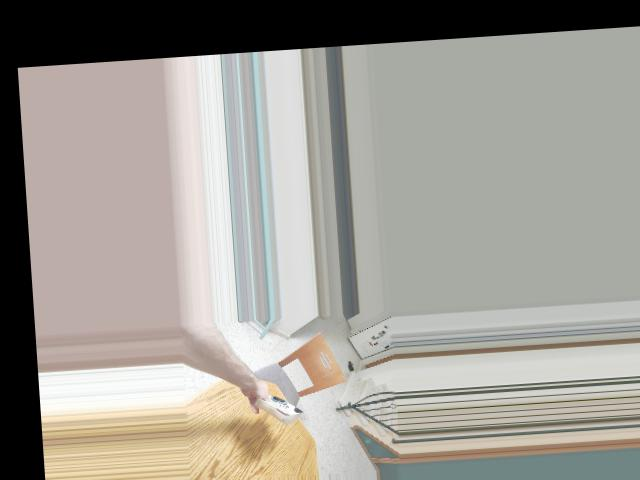cheese: (252, 389, 304, 427)
